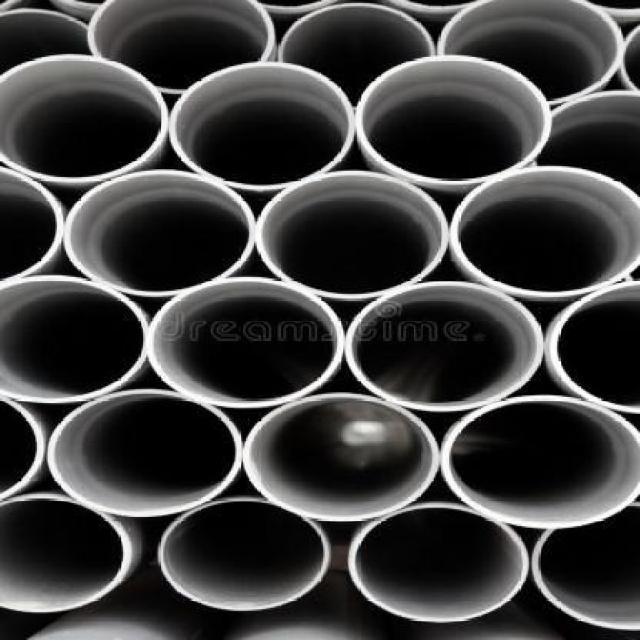pipe: (441, 395, 640, 529), (148, 277, 345, 410), (345, 280, 544, 411), (242, 394, 442, 522), (451, 166, 640, 299), (357, 56, 551, 185), (257, 171, 451, 300), (63, 169, 257, 297), (48, 390, 244, 516), (171, 62, 354, 191), (349, 503, 531, 623), (0, 55, 168, 183), (437, 0, 625, 105), (157, 497, 330, 611), (0, 275, 148, 403), (88, 0, 277, 94), (277, 3, 436, 109), (0, 492, 132, 613), (532, 503, 640, 631), (549, 279, 640, 416), (0, 168, 65, 284)
